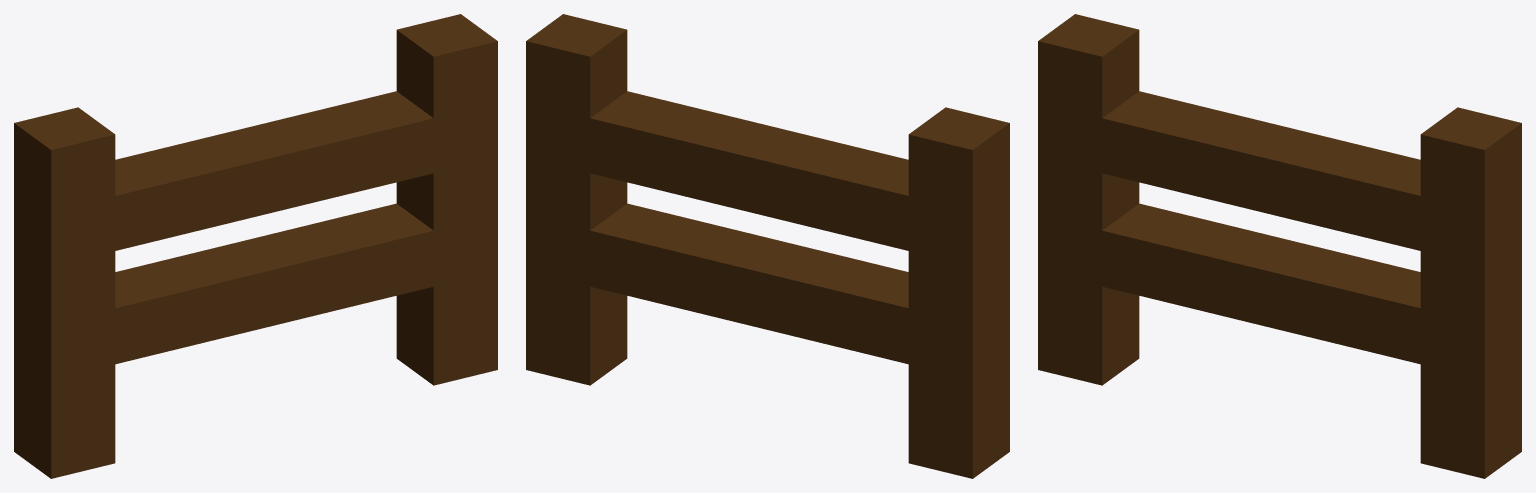
The model's file is BasicFence.fbx.
3 views of the same model, side by side, from view 1: azimuth 30°, elevation 25°; view 2: azimuth 150°, elevation 25°; view 3: azimuth 330°, elevation 25° (orthographic).
Visible parts, largest first — view 1: Cube; view 2: Cube; view 3: Cube.
Boxes of the visible parts, x1=… form: Cube: x1=14, y1=14, x2=497, y2=478; Cube: x1=526, y1=14, x2=1009, y2=478; Cube: x1=1038, y1=14, x2=1521, y2=478.
Size of the model in its own units: 159 by 112 by 22.83.
